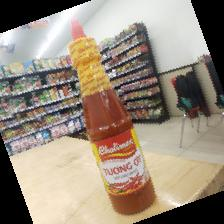Tuong: (67, 12, 157, 213)
